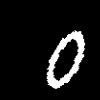chain: (47, 31, 84, 88)
